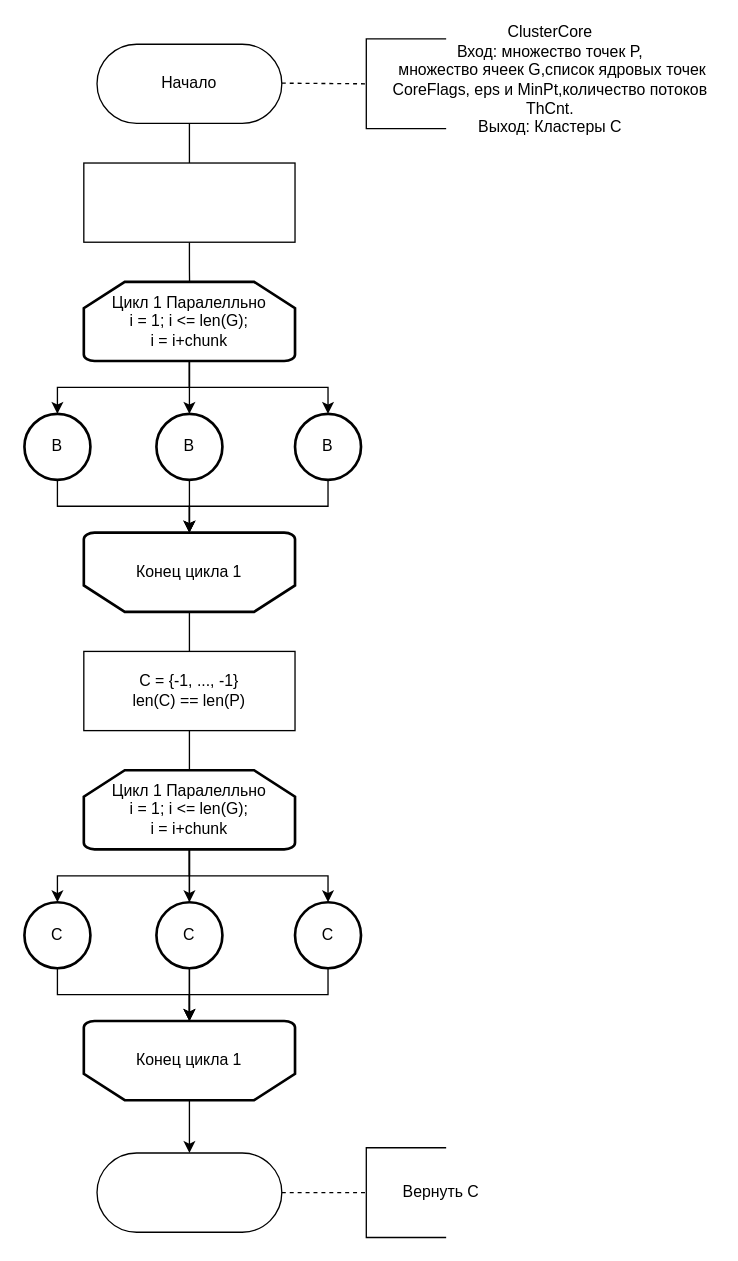
This 738x1261 diagram has some shape labels left out. Here are the shapes that lost their labels. From the top down, the centre of each, then its label:
At (188,202): "uf = UnionFind()".
At (189,1192): "Конец".
